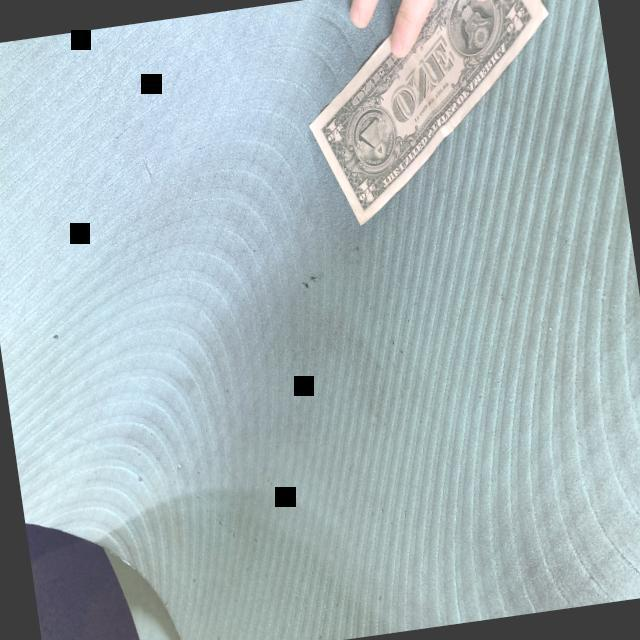one: (308, 0, 553, 228)
